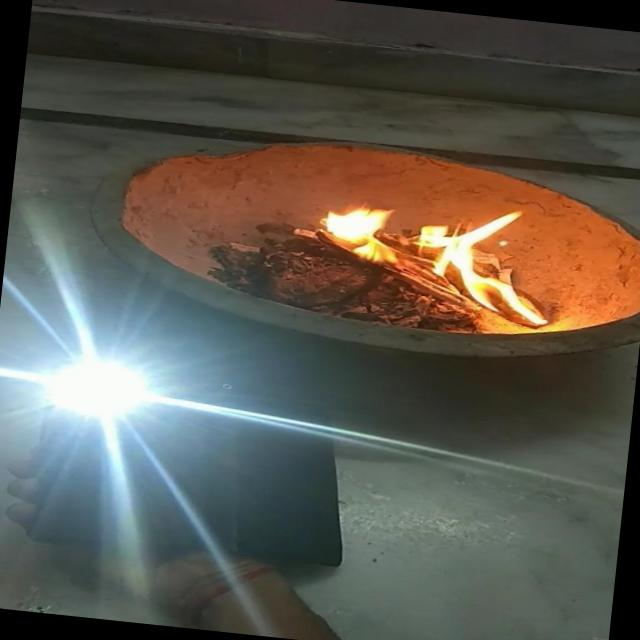fire: (313, 187, 546, 304)
